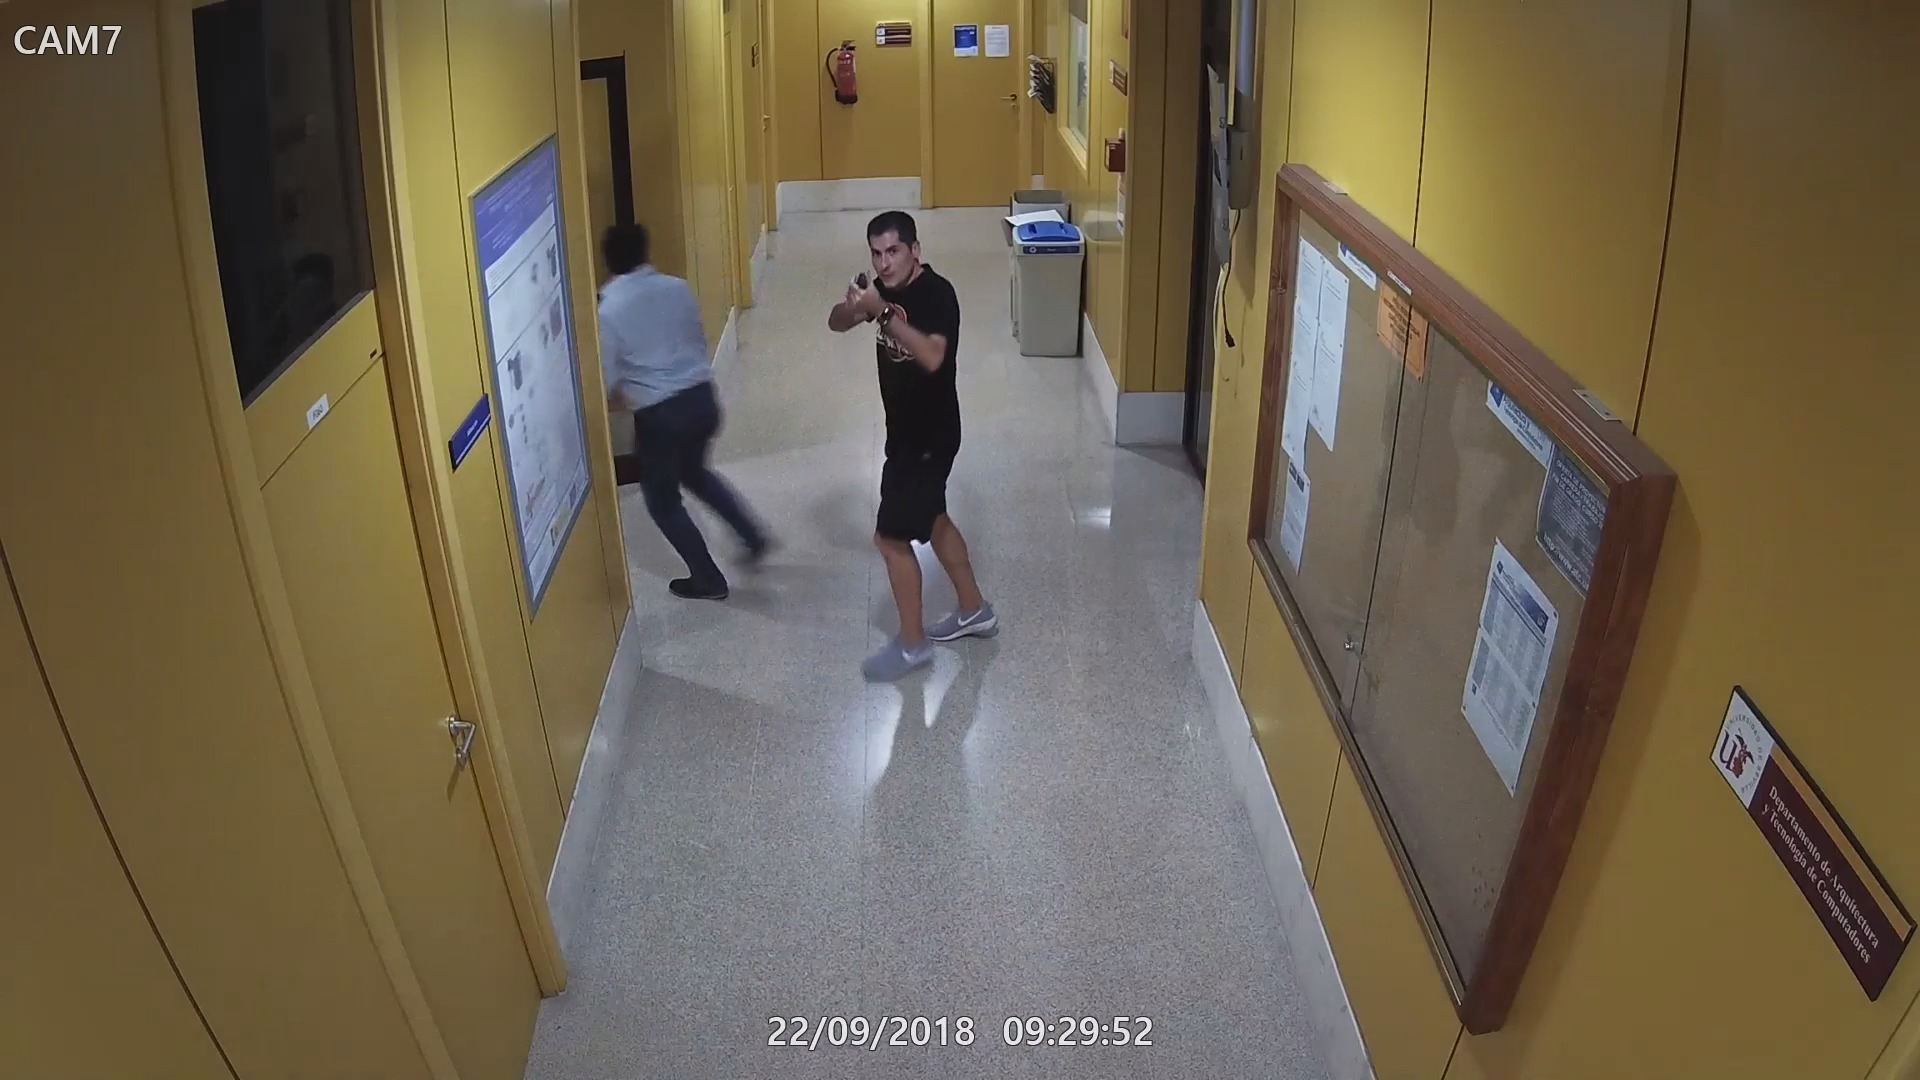pistol: (851, 265, 876, 313)
